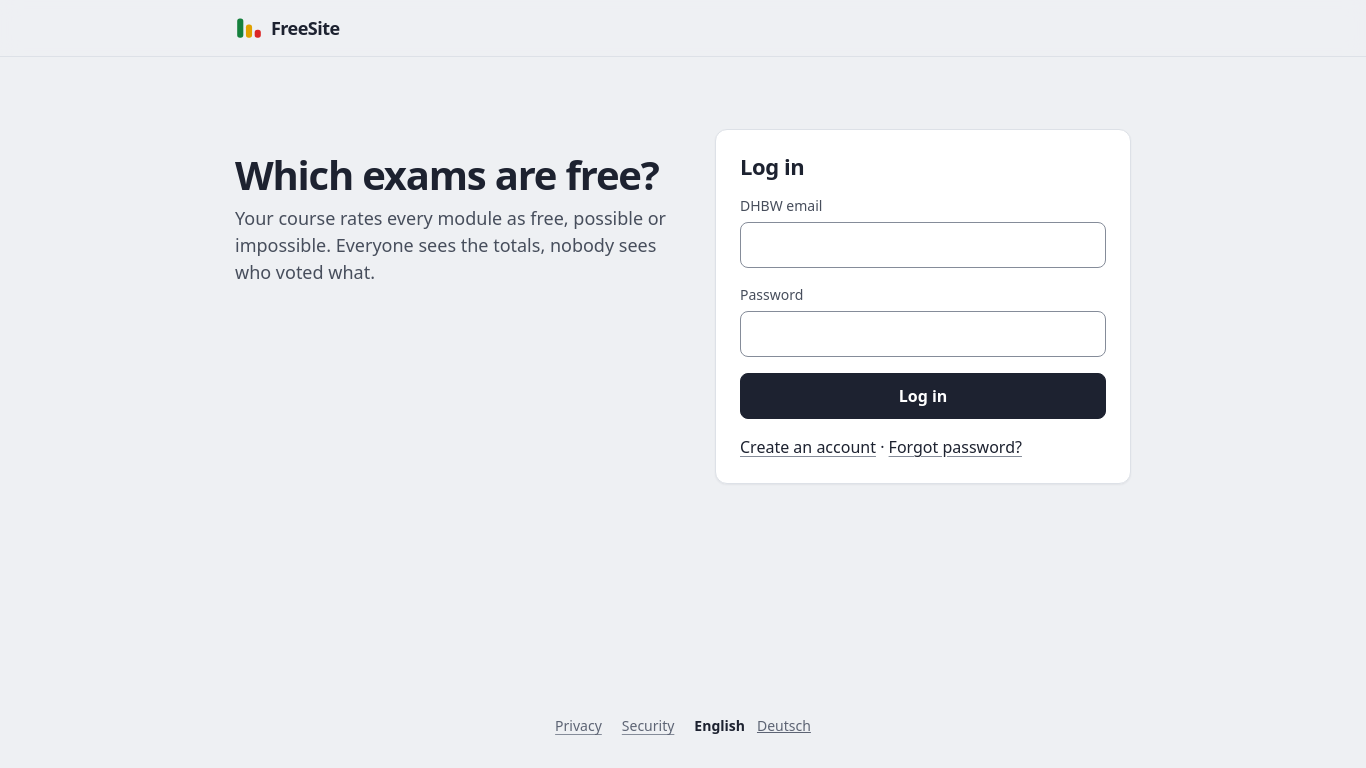
Scenario: invite links › for guests › continues to the invite link after logging in
Type "student@dhbw.example" into the field labelled "DHBW email" at (923, 245), box [740,222,1106,268]
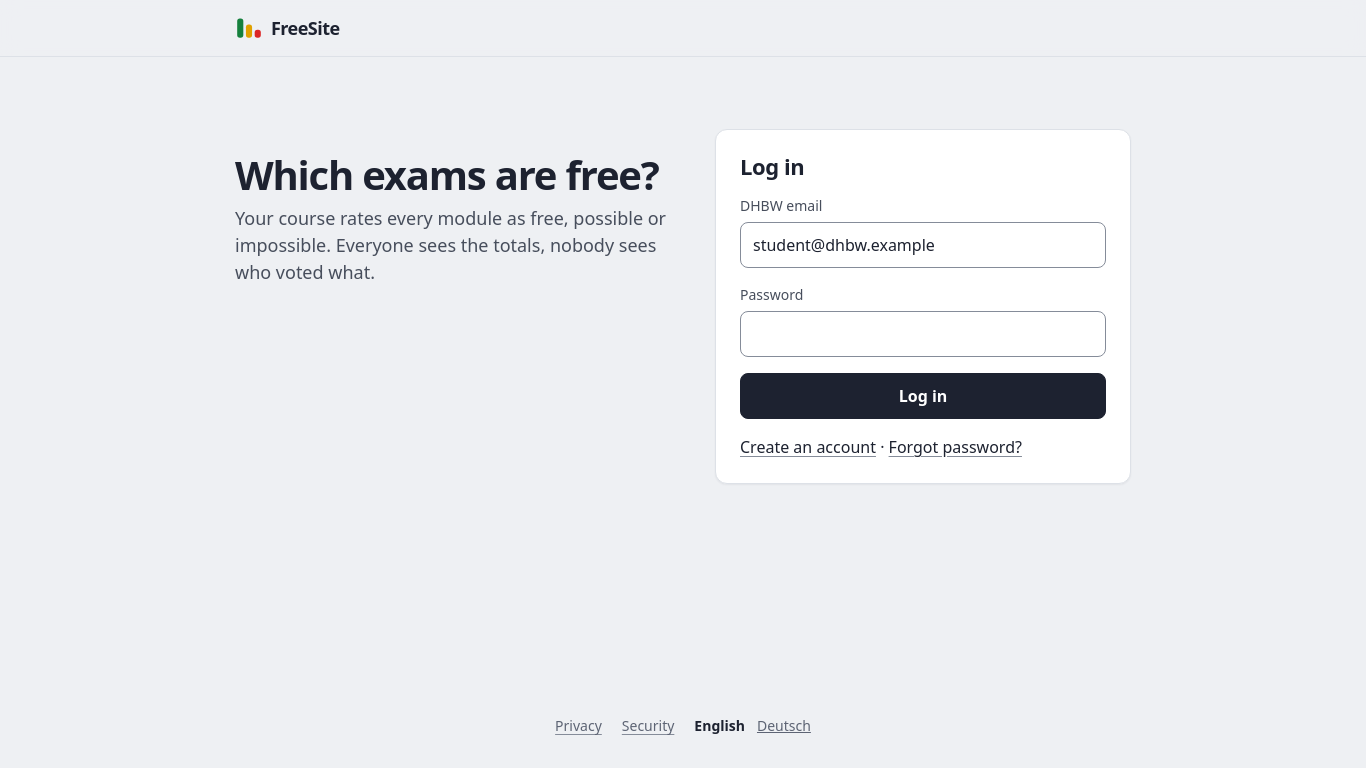
Type "correct horse battery" into the password field labelled "Password" at (923, 334), box [740,311,1106,357]
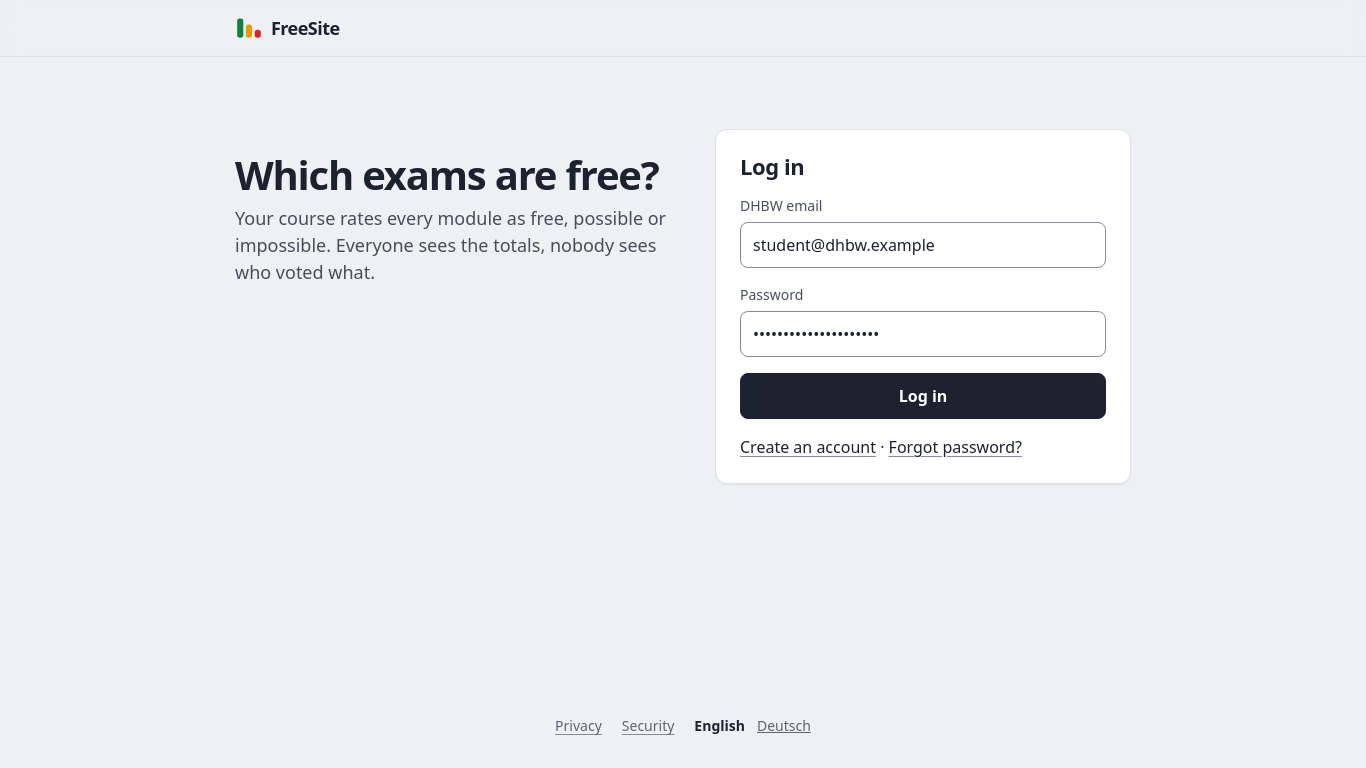
Click the button "Log in" at (923, 396), box [740,373,1106,419]
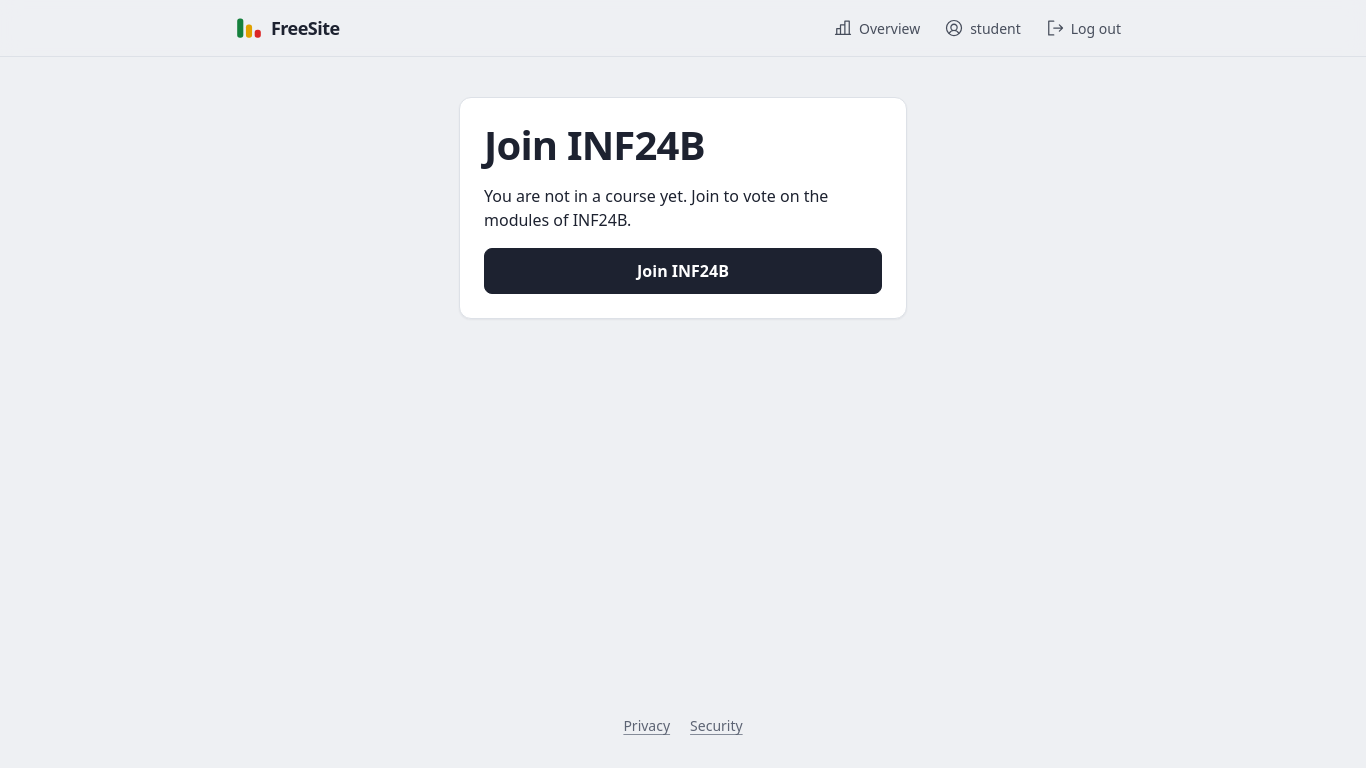
Expected: the heading "Join INF24B" is shown, [484,117,705,172]
Expected: the button "Join INF24B" is shown, [484,248,882,294]
